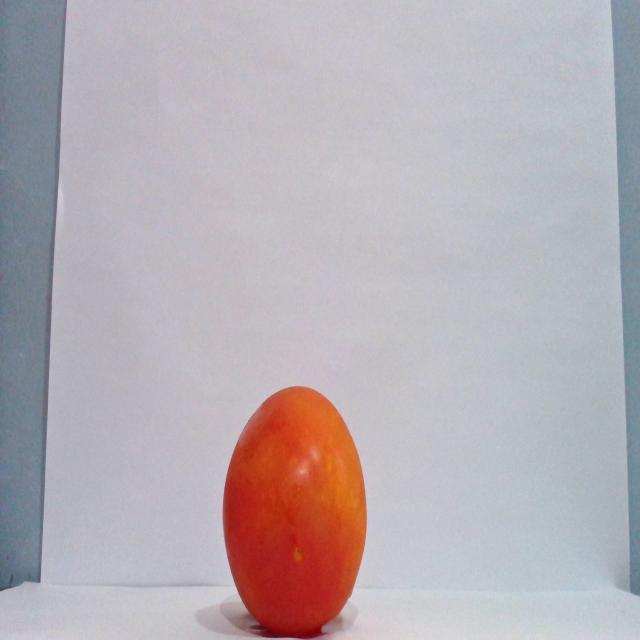Red: (220, 384, 368, 636)
